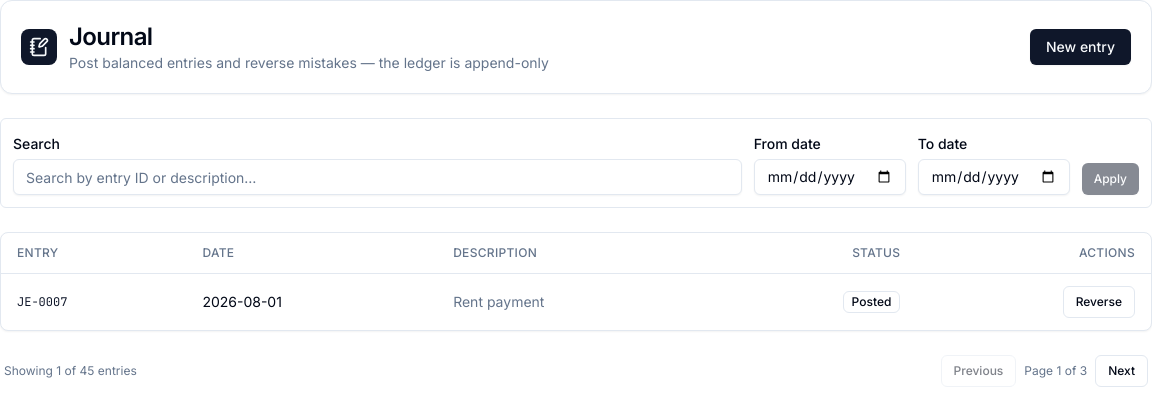
Test: JournalView — ledger pagination › disables Next on the last page
Click the button "Next" at (1122, 371), box [1095,355,1148,387]
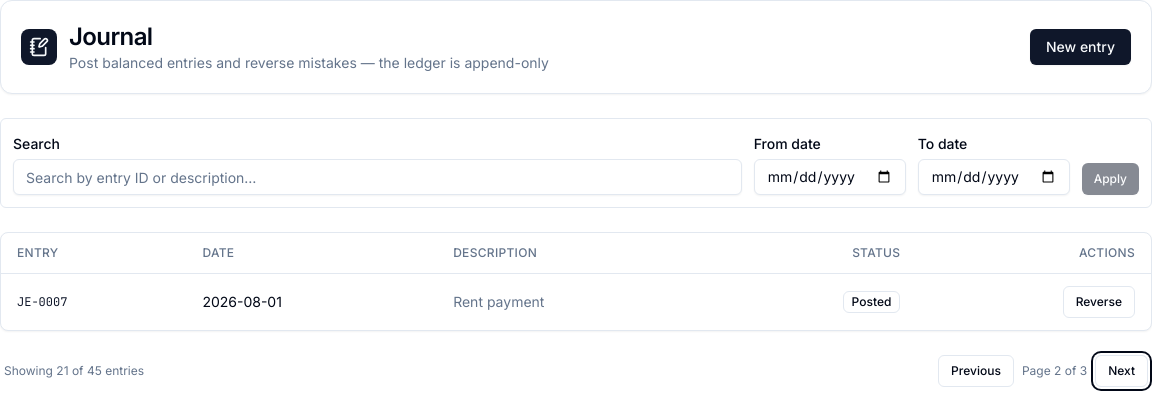
Click the button "Next" at (1122, 371), box [1095,355,1148,387]
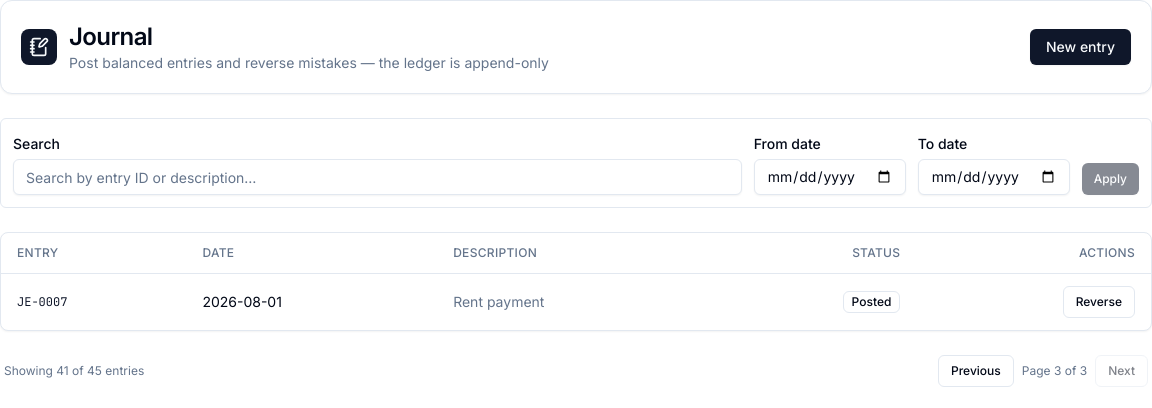
Expected: the button "Previous" is enabled, [938,355,1014,387]
Expected: the text "Page 3 of 3" is shown, [1022,363,1087,379]
Expected: the button "Next" is disabled, [1095,355,1148,387]
